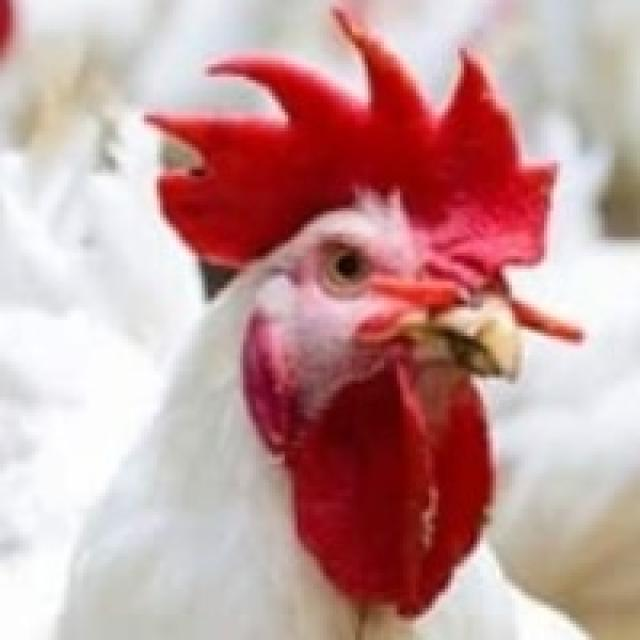Healthy: (61, 6, 582, 640)
